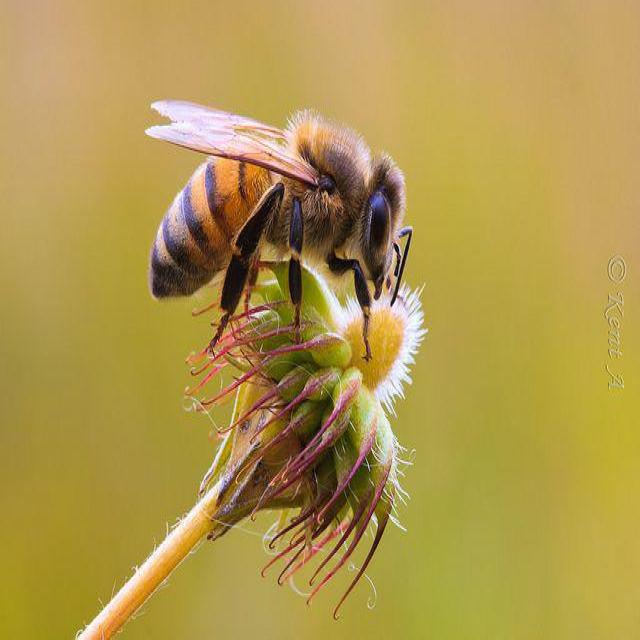honeybee: (139, 89, 426, 330)
